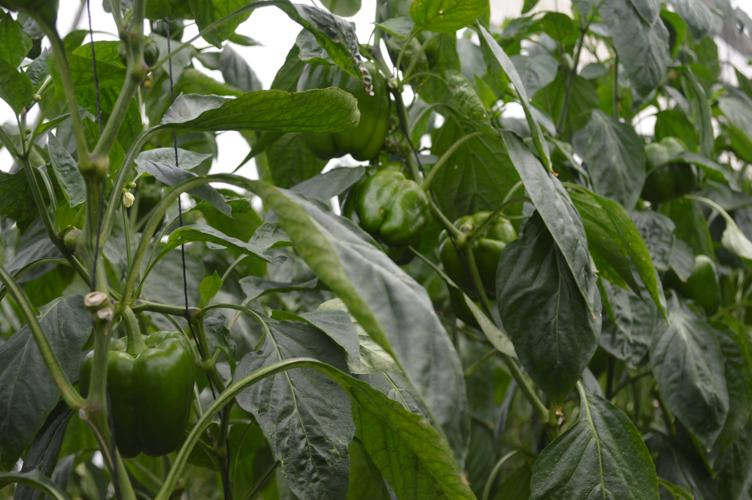BellPepper: (79, 331, 188, 454), (300, 59, 385, 159), (355, 167, 425, 247), (444, 216, 513, 292), (635, 136, 693, 200), (678, 260, 718, 313)
